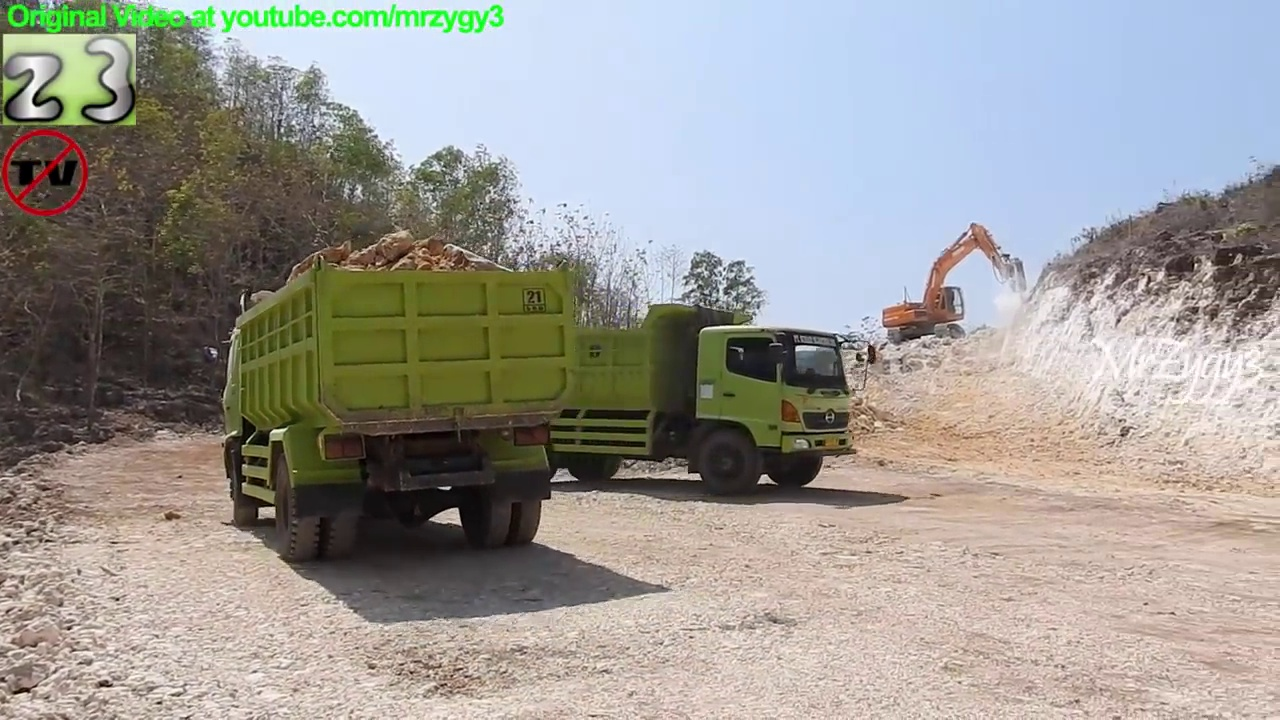excavator: (878, 219, 1036, 348)
truck: (196, 250, 591, 567), (436, 296, 881, 503)
